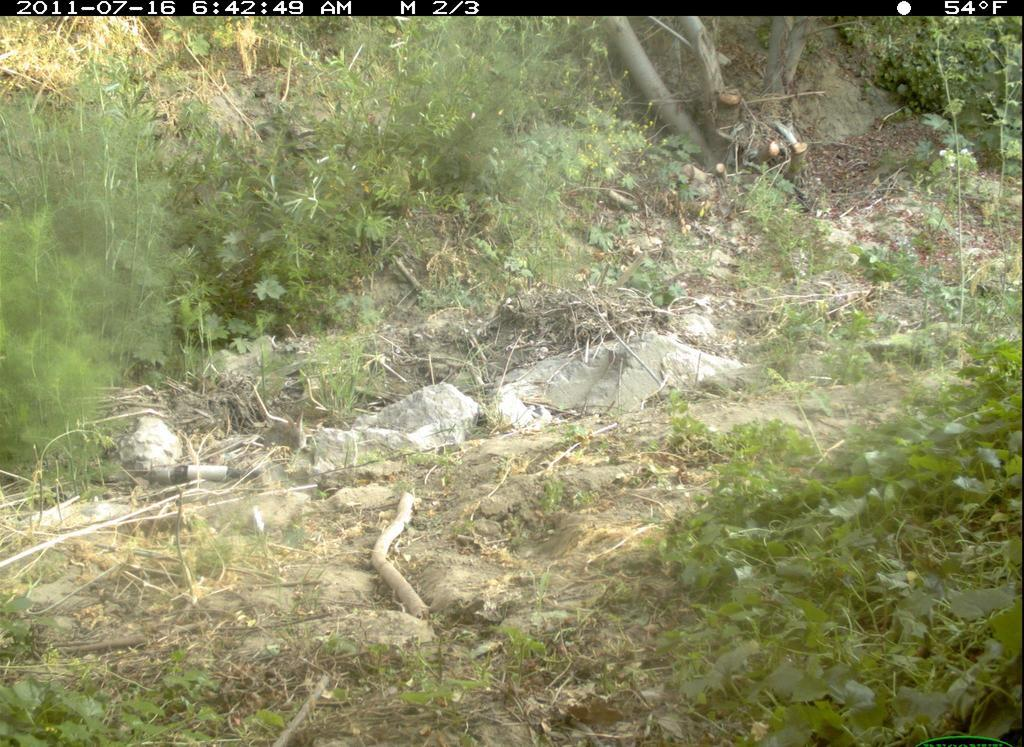rabbit: (250, 401, 321, 466)
